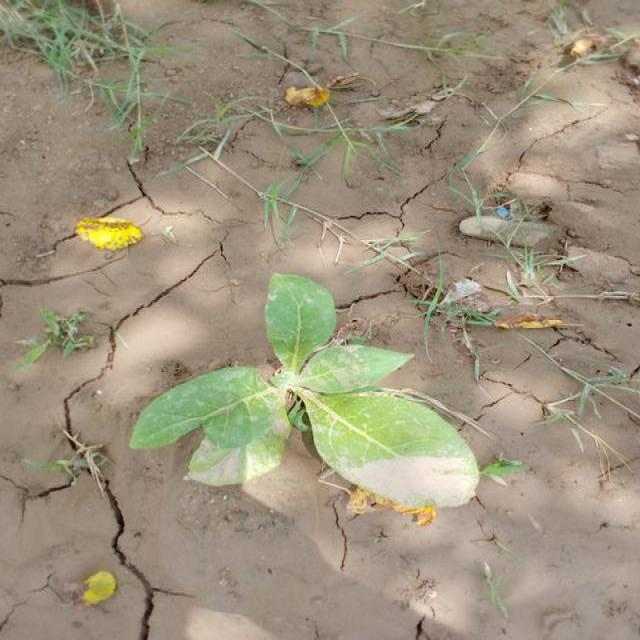crop: (131, 276, 478, 526)
